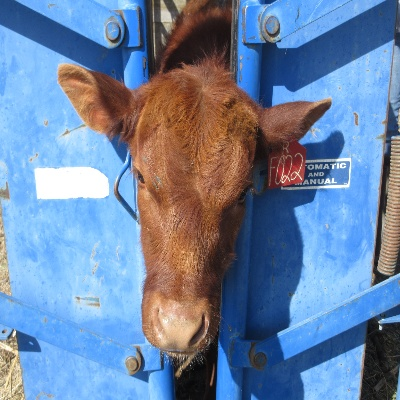fidget_spinner: (151, 302, 209, 350)
